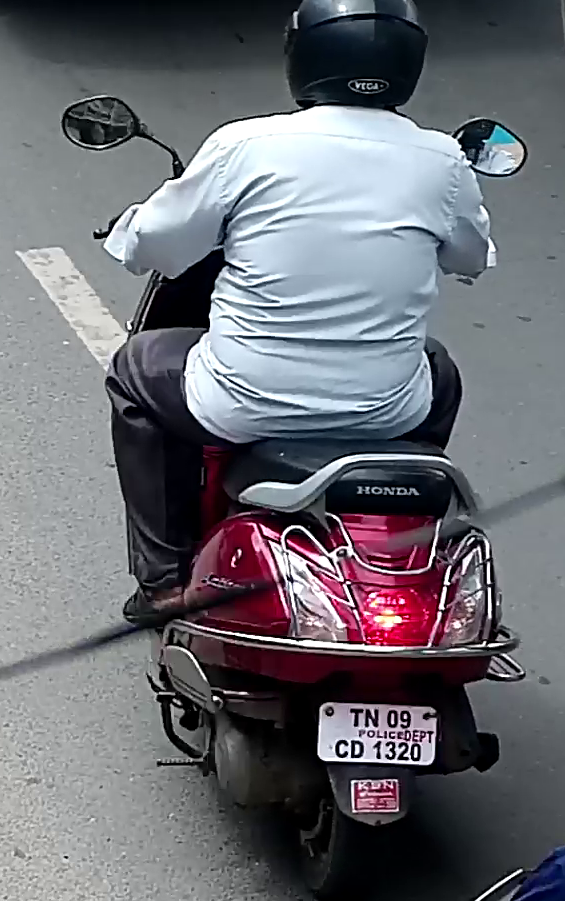0: (386, 709, 399, 728), (410, 743, 422, 761)
1: (372, 740, 382, 760)
2: (397, 741, 410, 761)
3: (384, 741, 396, 760)
9: (399, 710, 411, 729)
C: (335, 739, 349, 758)
D: (350, 739, 364, 758)
N: (364, 707, 379, 728)
P16: (316, 699, 439, 766)
T: (349, 708, 363, 728)
